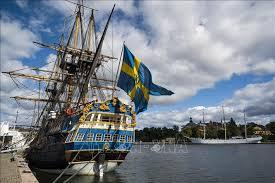Ship: (29, 6, 135, 183), (192, 138, 263, 145)
